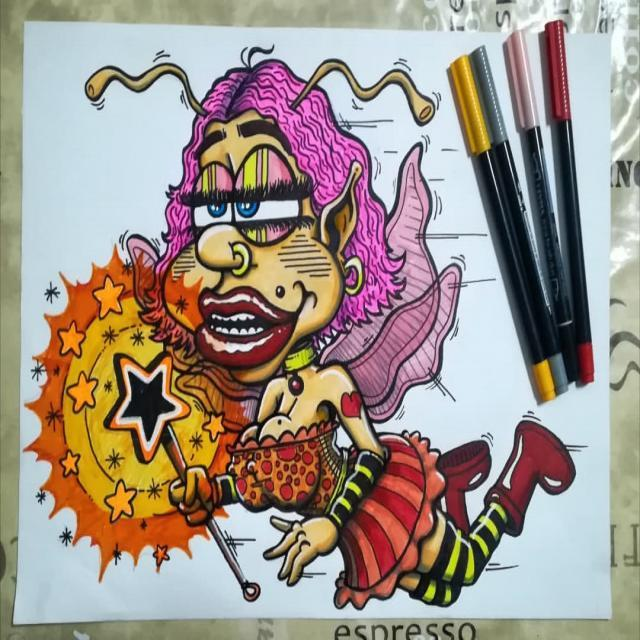-: (38, 29, 572, 608)
